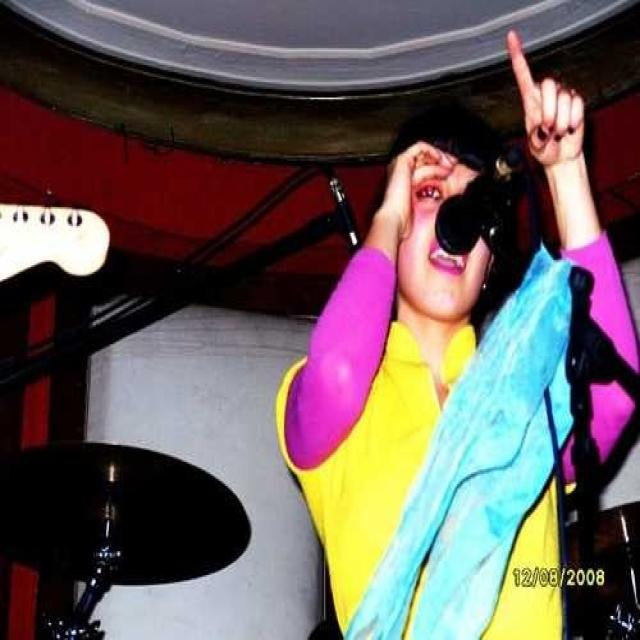microphone: (439, 144, 527, 262), (328, 175, 360, 249)
